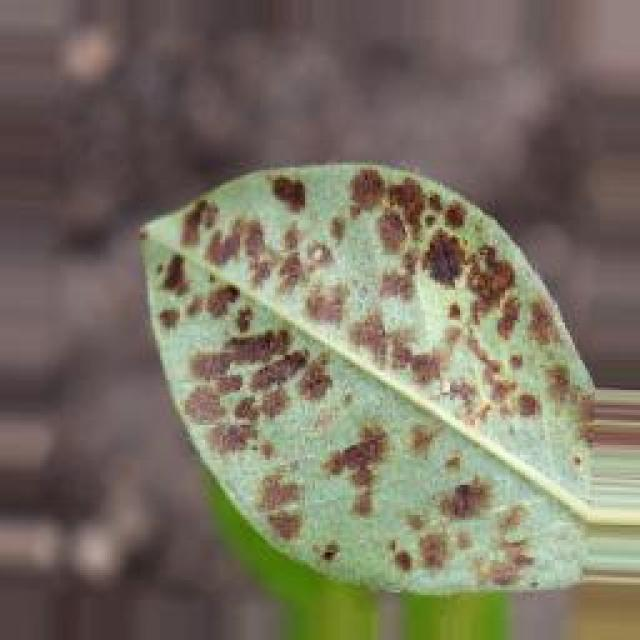Whitefly: (114, 149, 613, 640)
